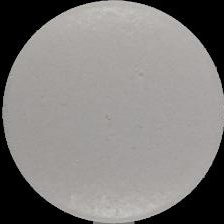0378-0127: (0, 0, 224, 224)
